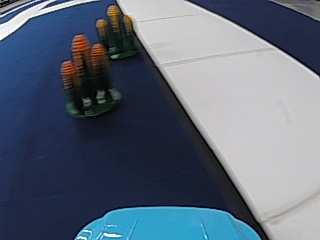corn: (58, 30, 119, 122), (97, 5, 139, 60)
